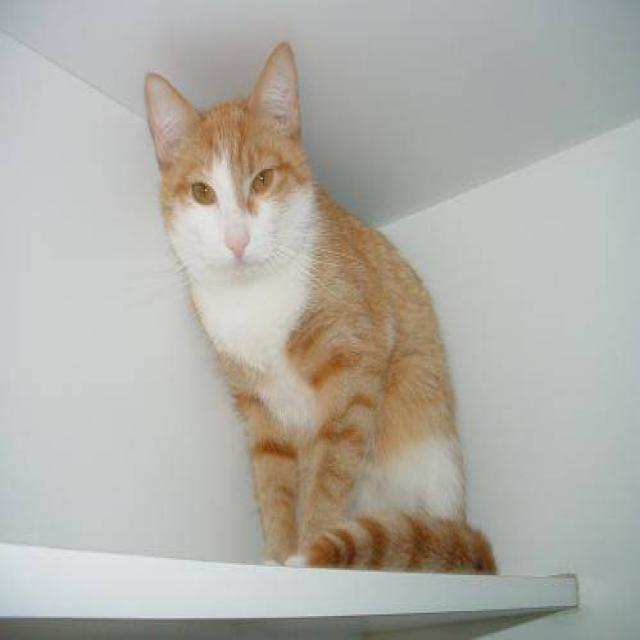cat: (142, 39, 498, 574)
